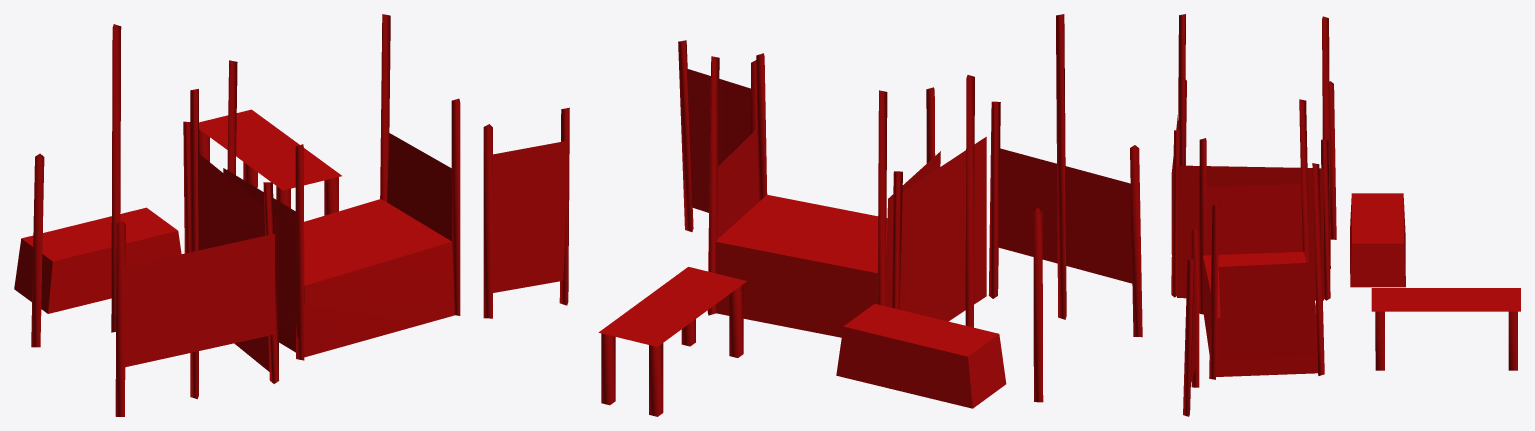
The model's file is n_market_place01_lod0.glb.
3 views of the same model, side by side, from view 1: azimuth 30°, elevation 25°; view 2: azimuth 150°, elevation 25°; view 3: azimuth 270°, elevation 25° (orthographic). The views are drawn at different scales.
Parts seen in each view (by area): view 1: MODEL_n_market_place01_lod0; view 2: MODEL_n_market_place01_lod0; view 3: MODEL_n_market_place01_lod0.
Part boxes in pixels (x1,y1,x2,y2): MODEL_n_market_place01_lod0: [14, 14, 569, 416]; MODEL_n_market_place01_lod0: [598, 14, 1142, 416]; MODEL_n_market_place01_lod0: [1171, 14, 1520, 416].
Size of the model in its own units: 1.82 by 1.15 by 1.45.
